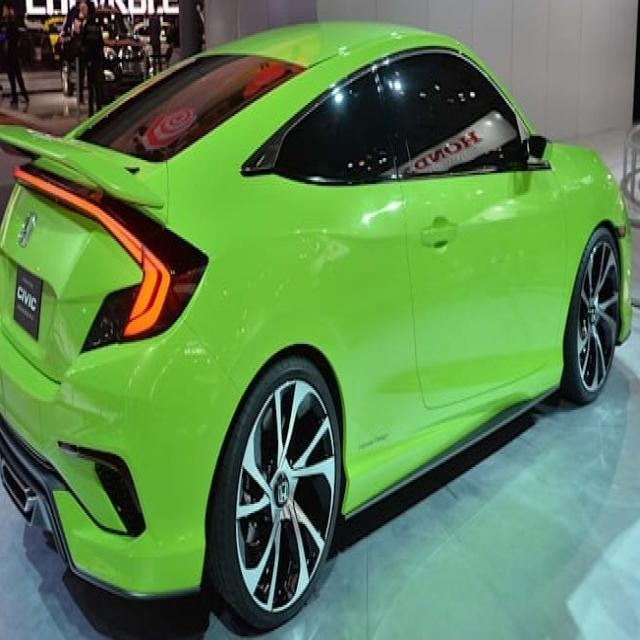green: (3, 9, 626, 640)
